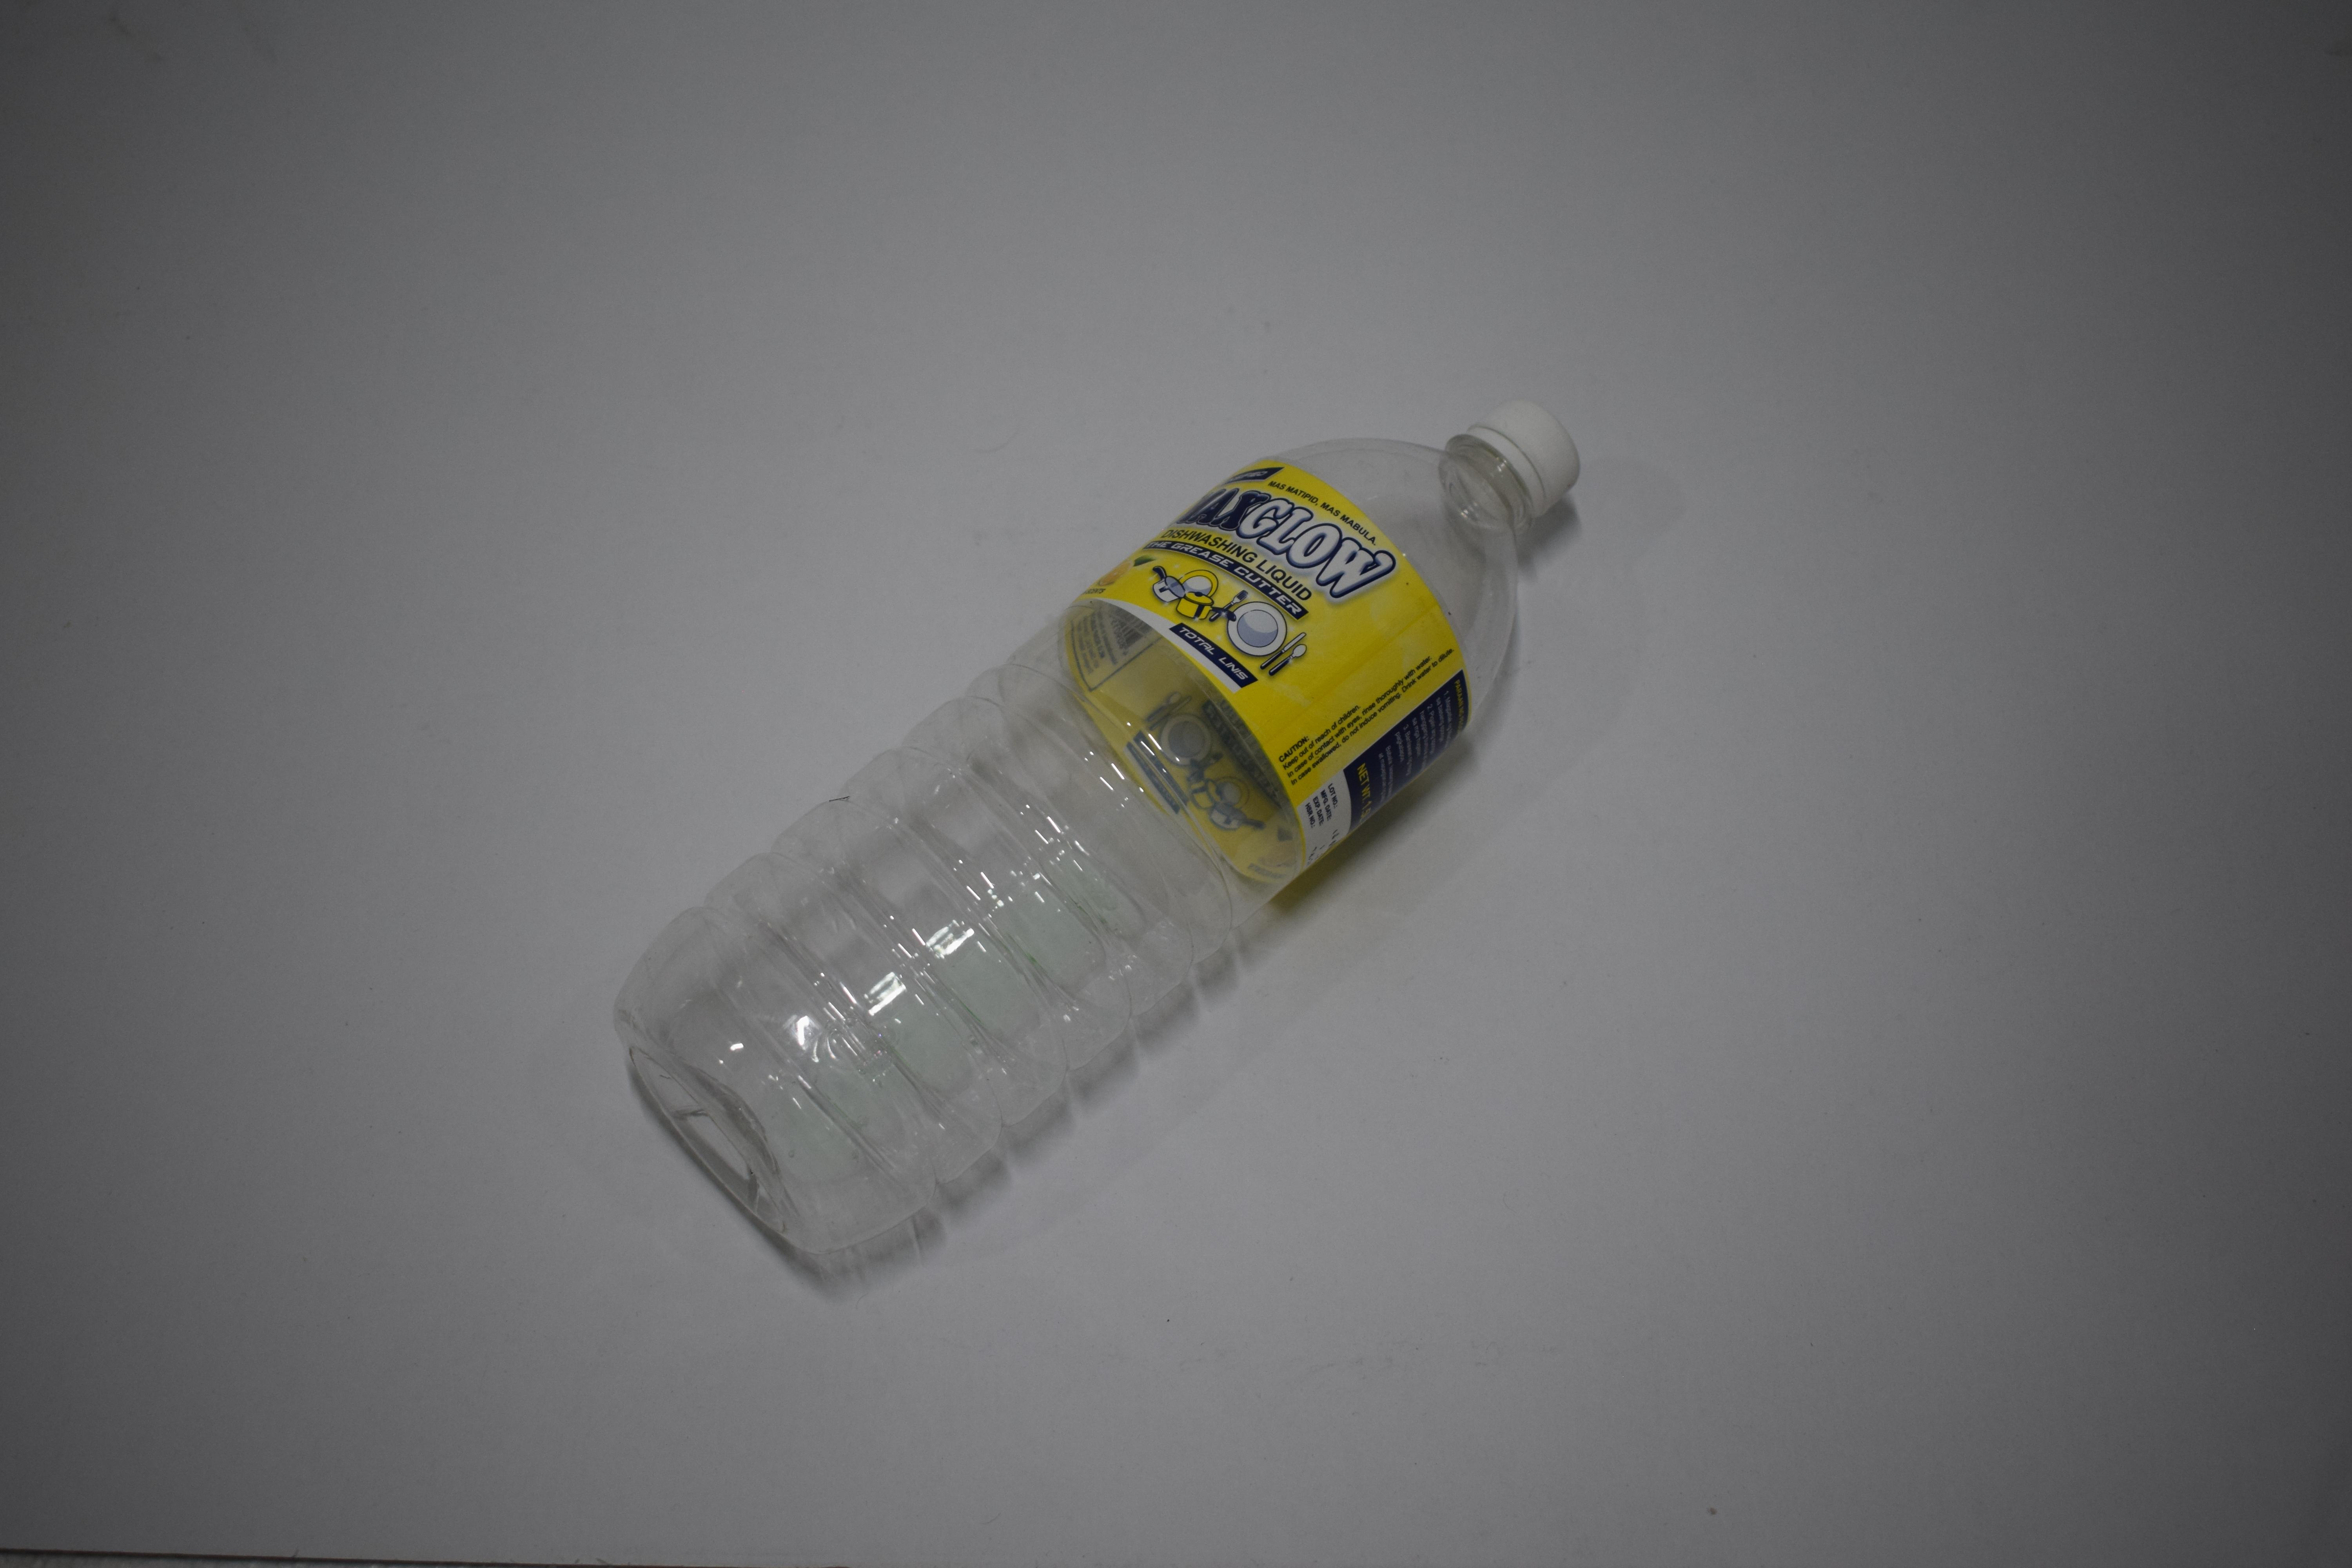bottle: (607, 10, 1587, 105)
